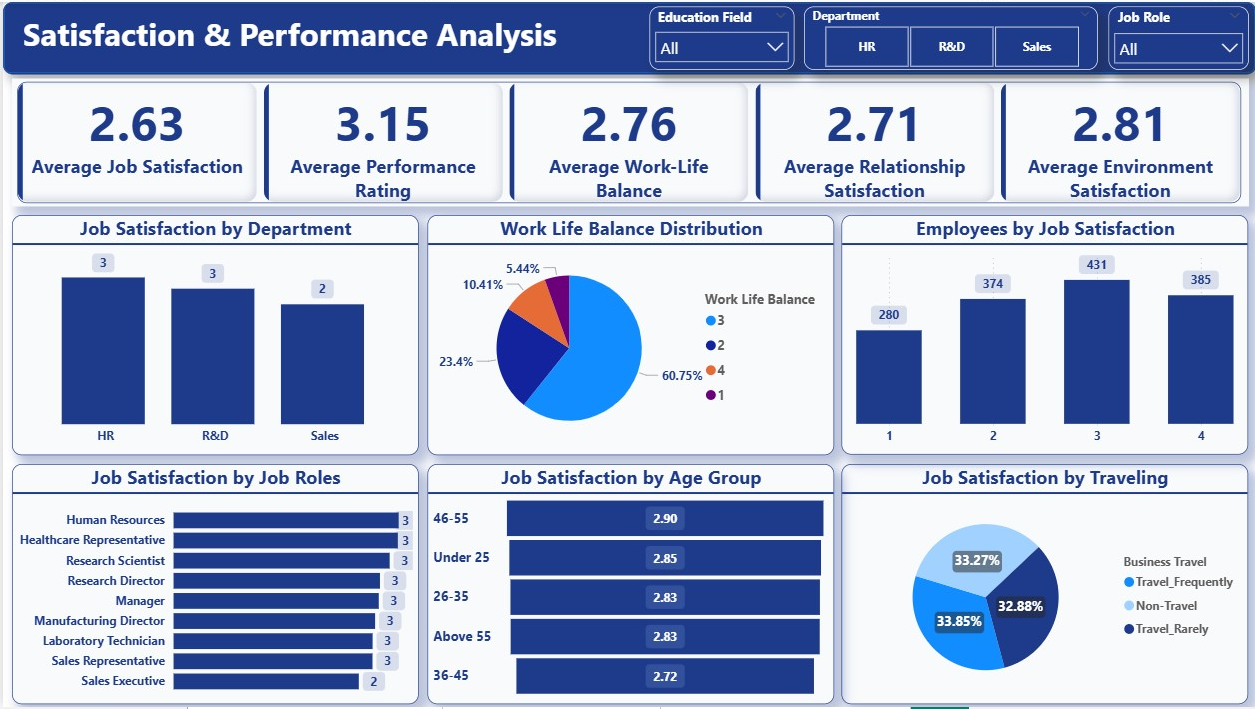

The page's visual inventory and layout, read from the dashboard file:
{"tool":"powerbi","page":{"name":"Satisfaction Dashboard","canvas":[1280,720],"ordinal":2},"visuals":[{"type":"shape","box":[0,0,1280,74],"z":0},{"type":"textbox","box":[15.4,4.6,581.5,64.6],"z":1000},{"type":"cardVisual","title":"hh","fields":{"Data":["Meaures_table.Average Job Satisfaction","Meaures_table.Average Performance Rating","Meaures_table.Average Work-Life Balance","Meaures_table.Average Relationship Satisfaction","Meaures_table.Average Environment Satisfaction"]},"box":[9.2,78.5,1263.1,130.8],"z":2000},{"type":"columnChart","title":"Job Satisfaction by Department","fields":{"Category":["HR_Data.Department"],"Y":["Meaures_table.Average Job Satisfaction"]},"box":[9.2,217.5,415,245],"z":3000},{"type":"pieChart","title":"Work Life Balance Distribution ","fields":{"Y":["Meaures_table.Total Employees"],"Category":["HR_Data.Work Life Balance"]},"box":[433.8,216.9,415.4,245],"z":4000},{"type":"clusteredBarChart","title":"Job Satisfaction by Job Roles","fields":{"Category":["HR_Data.Job Role"],"Y":["Meaures_table.Average Job Satisfaction"]},"box":[9.2,472.3,415.4,245],"z":5000},{"type":"pieChart","title":"Job Satisfaction by Traveling","fields":{"Category":["HR_Data.Business Travel"],"Y":["Meaures_table.Average Job Satisfaction"]},"box":[856.9,472.3,415.4,245],"z":6000},{"type":"slicer","fields":{"Values":["HR_Data.Education Field"]},"box":[660,4.6,147.7,64.6],"z":7000},{"type":"slicer","fields":{"Values":["HR_Data.Job Role"]},"box":[1129.2,4.6,143.1,64.6],"z":8000},{"type":"slicer","fields":{"Values":["HR_Data.Department"]},"box":[818.5,4.6,300,64.6],"z":9000},{"type":"funnel","title":"Job Satisfaction by Age Group","fields":{"Category":["HR_Data.Age_Group"],"Y":["Meaures_table.Average Environment Satisfaction"]},"box":[433.8,472.3,415.4,245],"z":10000},{"type":"columnChart","fields":{"Y":["Meaures_table.Total Employees"],"Category":["HR_Data.Job Satisfaction"]},"box":[856.9,216.9,415.4,244.6],"z":11000}]}

Visuals, with their boxes in screenshot pixels (x1, y1, x2, y2), scaled from the page's 1280x720 canvas onto the 1255x709 screenshot:
shape: left=0, top=0, right=1254, bottom=73
textbox: left=15, top=5, right=585, bottom=68
"hh" cardVisual: left=9, top=77, right=1247, bottom=206
"Job Satisfaction by Department" columnChart: left=9, top=214, right=416, bottom=455
"Work Life Balance Distribution " pieChart: left=425, top=214, right=833, bottom=455
"Job Satisfaction by Job Roles" clusteredBarChart: left=9, top=465, right=416, bottom=706
"Job Satisfaction by Traveling" pieChart: left=840, top=465, right=1247, bottom=706
slicer - HR_Data.Education Field: left=647, top=5, right=792, bottom=68
slicer - HR_Data.Job Role: left=1107, top=5, right=1247, bottom=68
slicer - HR_Data.Department: left=803, top=5, right=1097, bottom=68
"Job Satisfaction by Age Group" funnel: left=425, top=465, right=833, bottom=706
columnChart - Meaures_table.Total Employees x HR_Data.Job Satisfaction: left=840, top=214, right=1247, bottom=454
